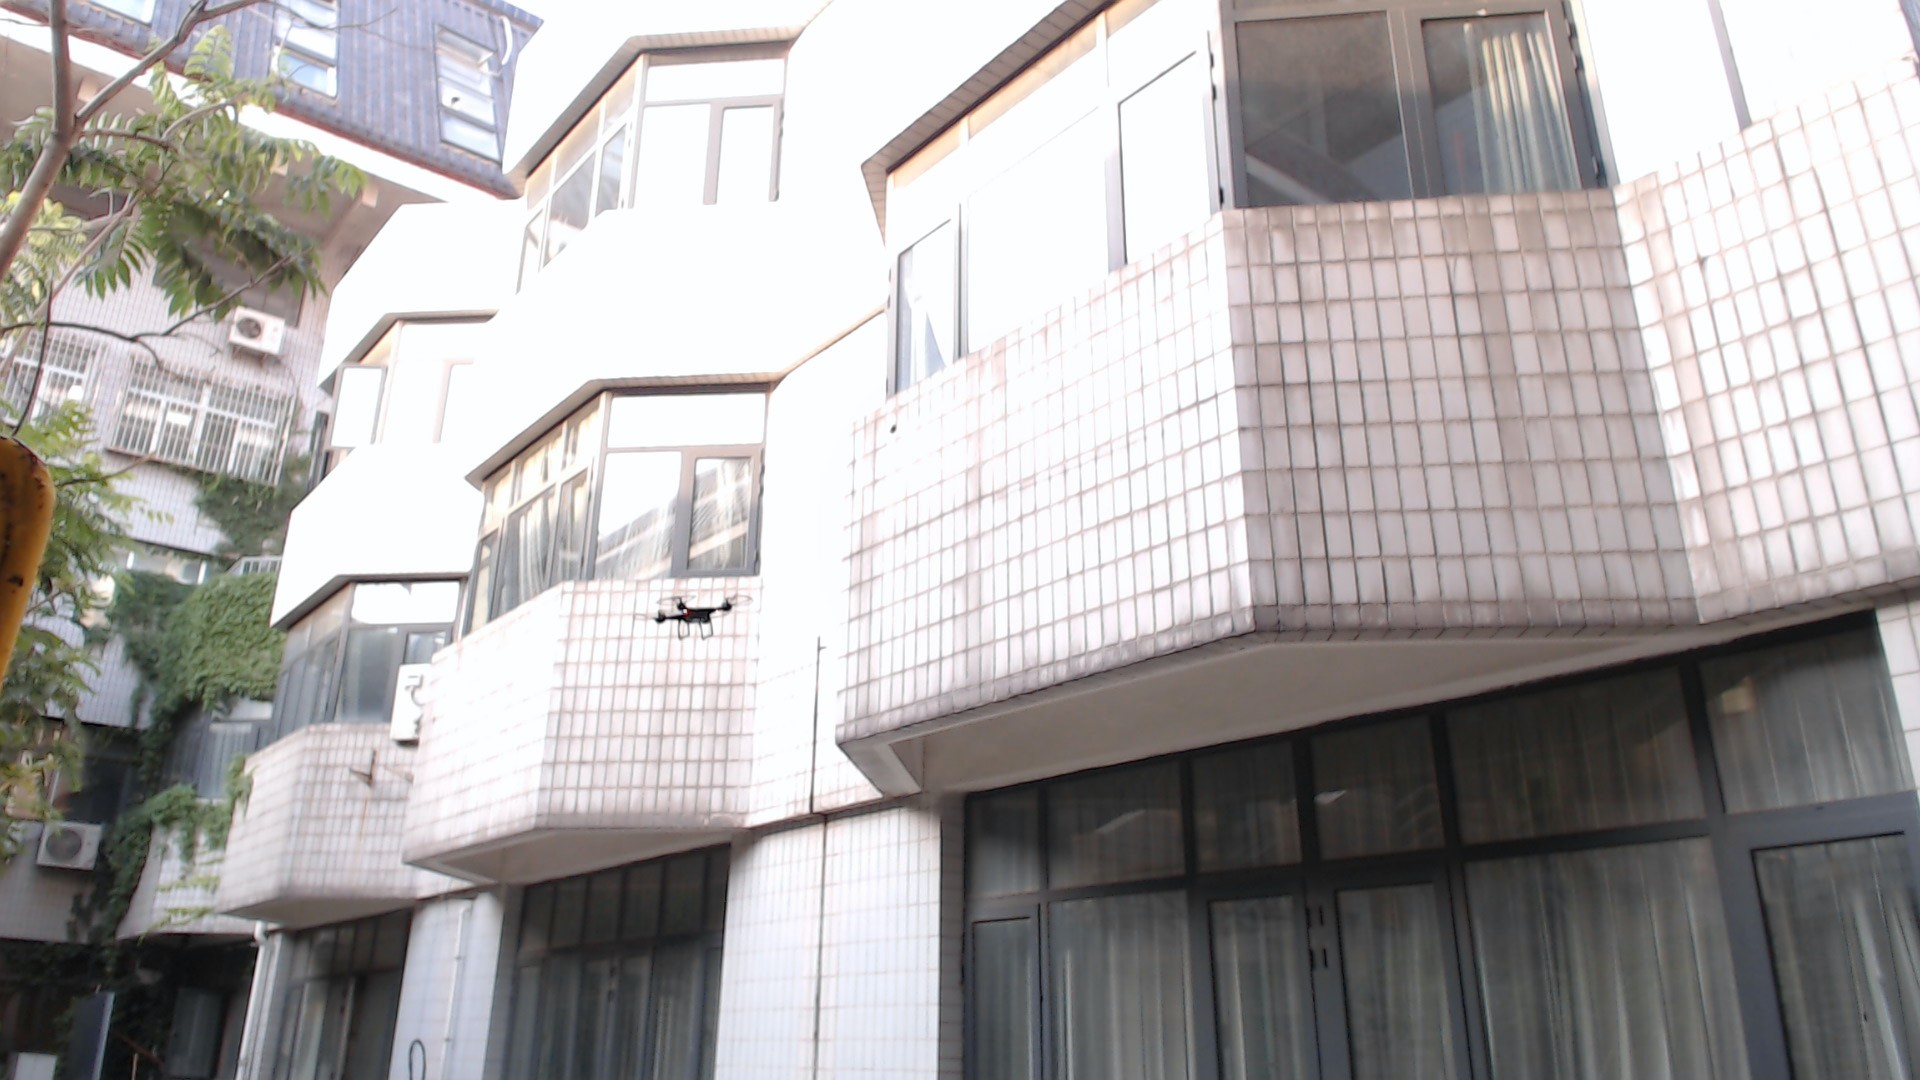drone: (615, 567, 783, 662)
